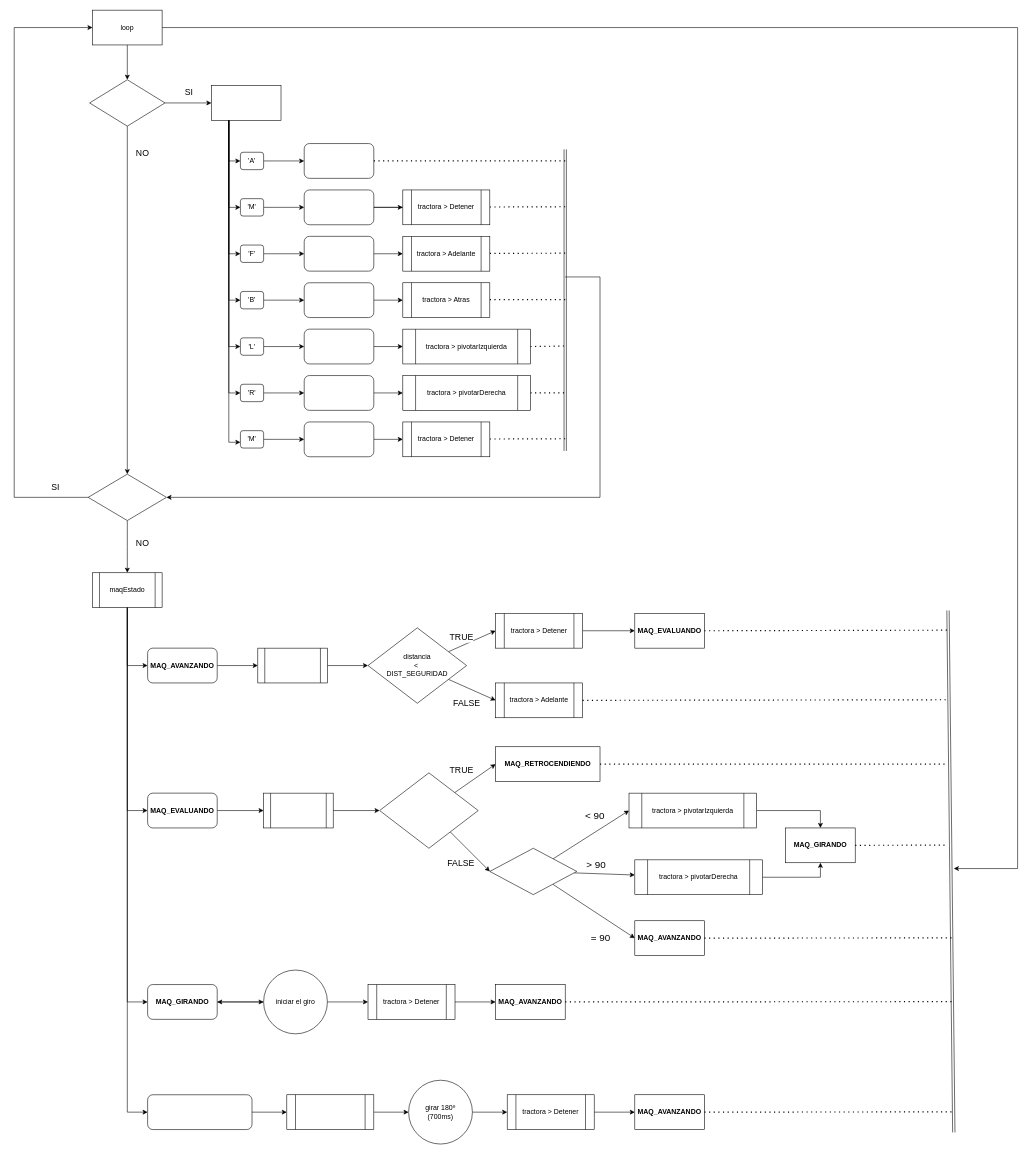
The diagram is 1032 pixels wide and 1154 high, and some of its shapes have lost their labels. Each missing label, with the centre of its shape:
"(manual) adelante" belongs at (339,253).
"(manual) atras" belongs at (339,300).
"(manual) detener" belongs at (339,439).
"(manual) pivota Drcha" belongs at (339,392).
"(manual) pivota Izqda" belongs at (339,346).
"BT leerComando" belongs at (246,102).
"comando BT?" belongs at (127,102).
"MAQ_RETROCEDIENDO" belongs at (199,1112).
"medirDistancia" belongs at (292,665).
"mejor Distancia" belongs at (298,810).
"mejorAngulo" belongs at (533,871).
"mejorDistancia < DIST_SEGURIDAD" belongs at (428,810).
"modo Autonomo" belongs at (339,160).
"modo Manual" belongs at (339,207).
"modo manual?" belongs at (127,497).
"tractora > Atras (500ms)" belongs at (330,1112).
